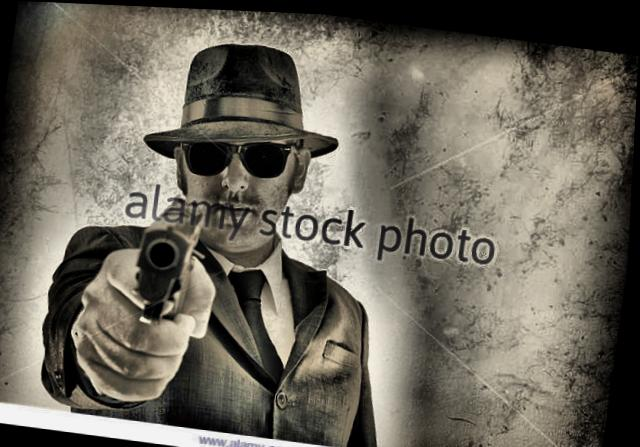pistol: (137, 192, 209, 325)
